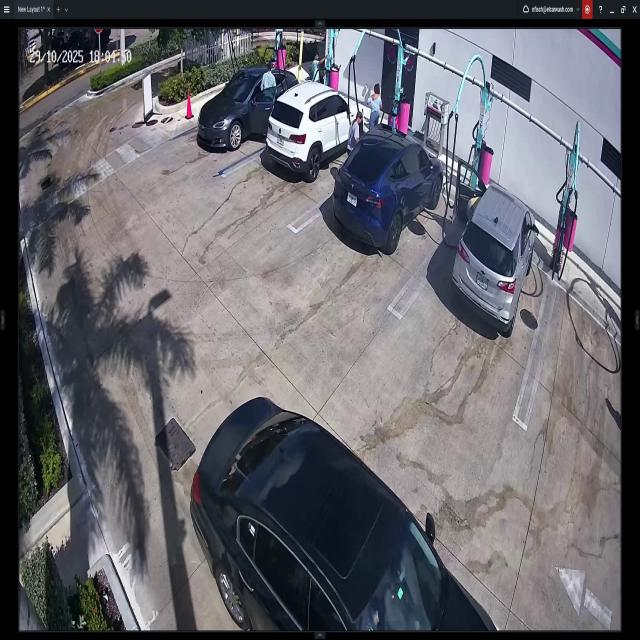Car: (197, 391, 496, 627), (451, 156, 534, 334), (332, 130, 444, 248), (268, 80, 358, 180), (198, 65, 300, 149)
